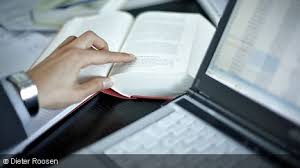Open Book: (31, 13, 220, 97)
